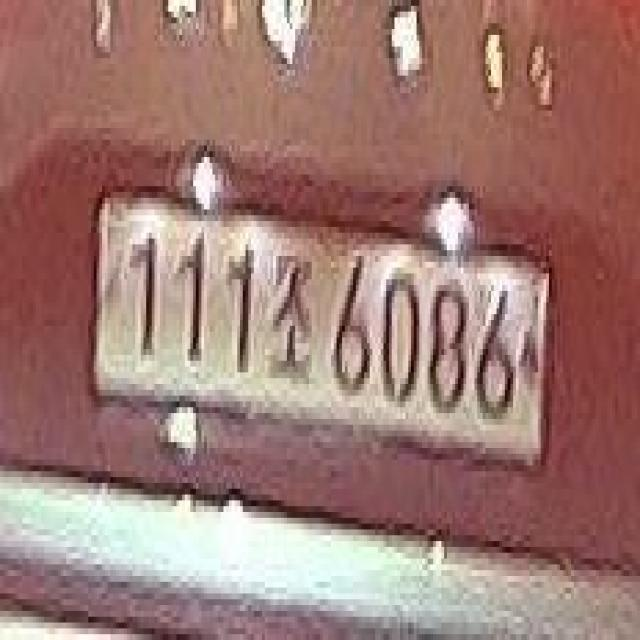illegal_plate: (86, 174, 552, 496)
